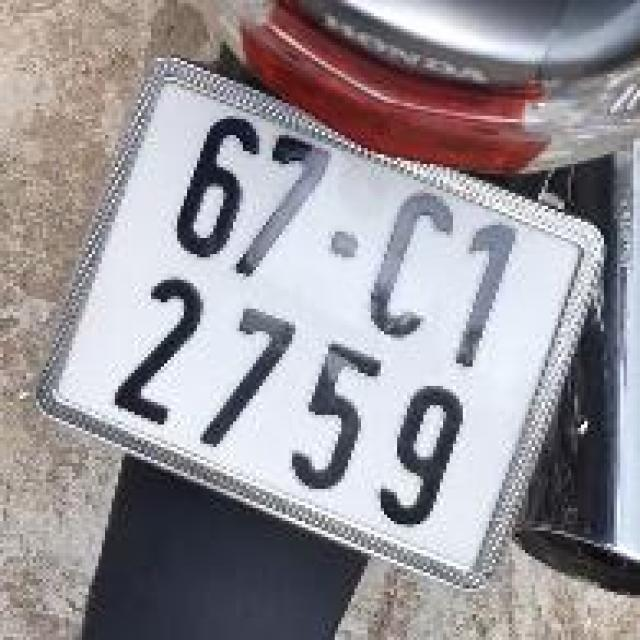1: (416, 209, 547, 386)
2: (90, 264, 237, 438)
5: (263, 325, 411, 506)
6: (154, 105, 281, 273)
7: (183, 293, 318, 461), (214, 121, 347, 291)
9: (354, 368, 500, 545)
C: (347, 177, 478, 354)
